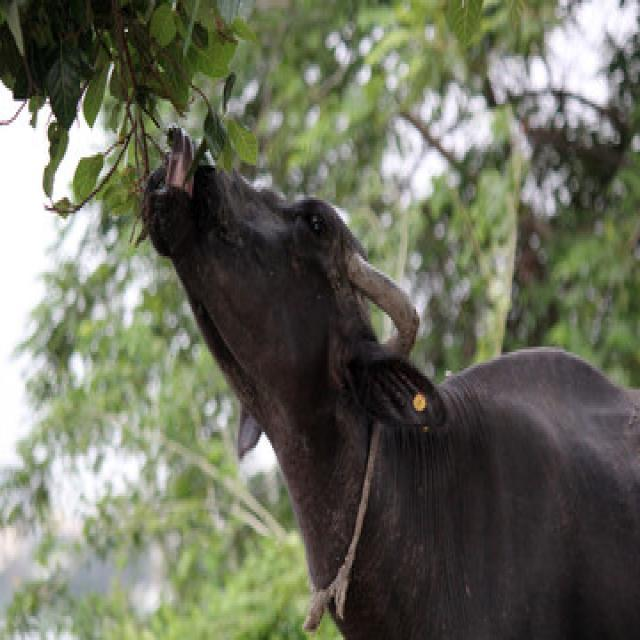Buffalo: (137, 120, 638, 637)
